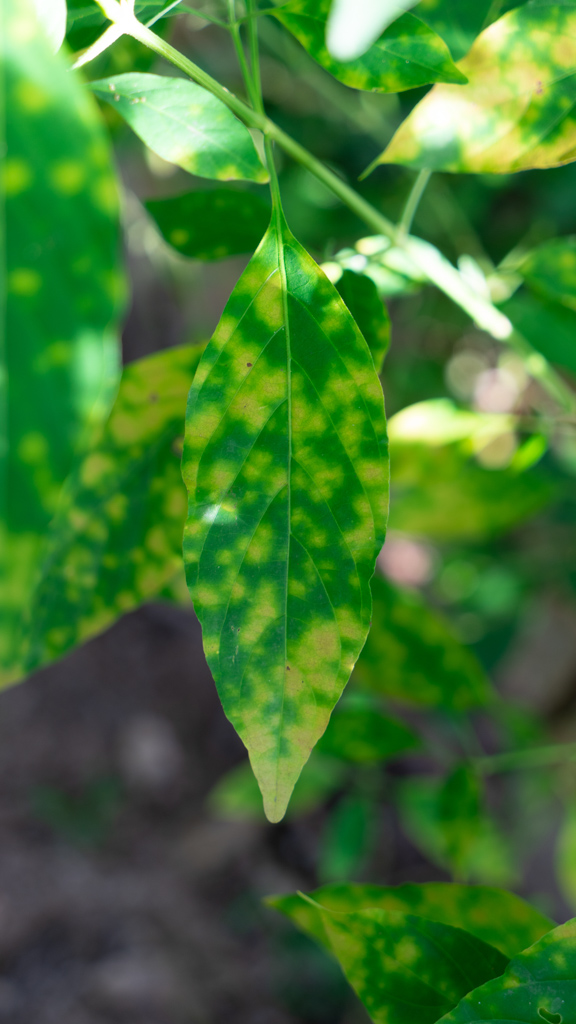Pepper yellow leaf: (193, 239, 375, 814), (4, 334, 195, 689), (271, 880, 570, 1012), (362, 15, 573, 182)
